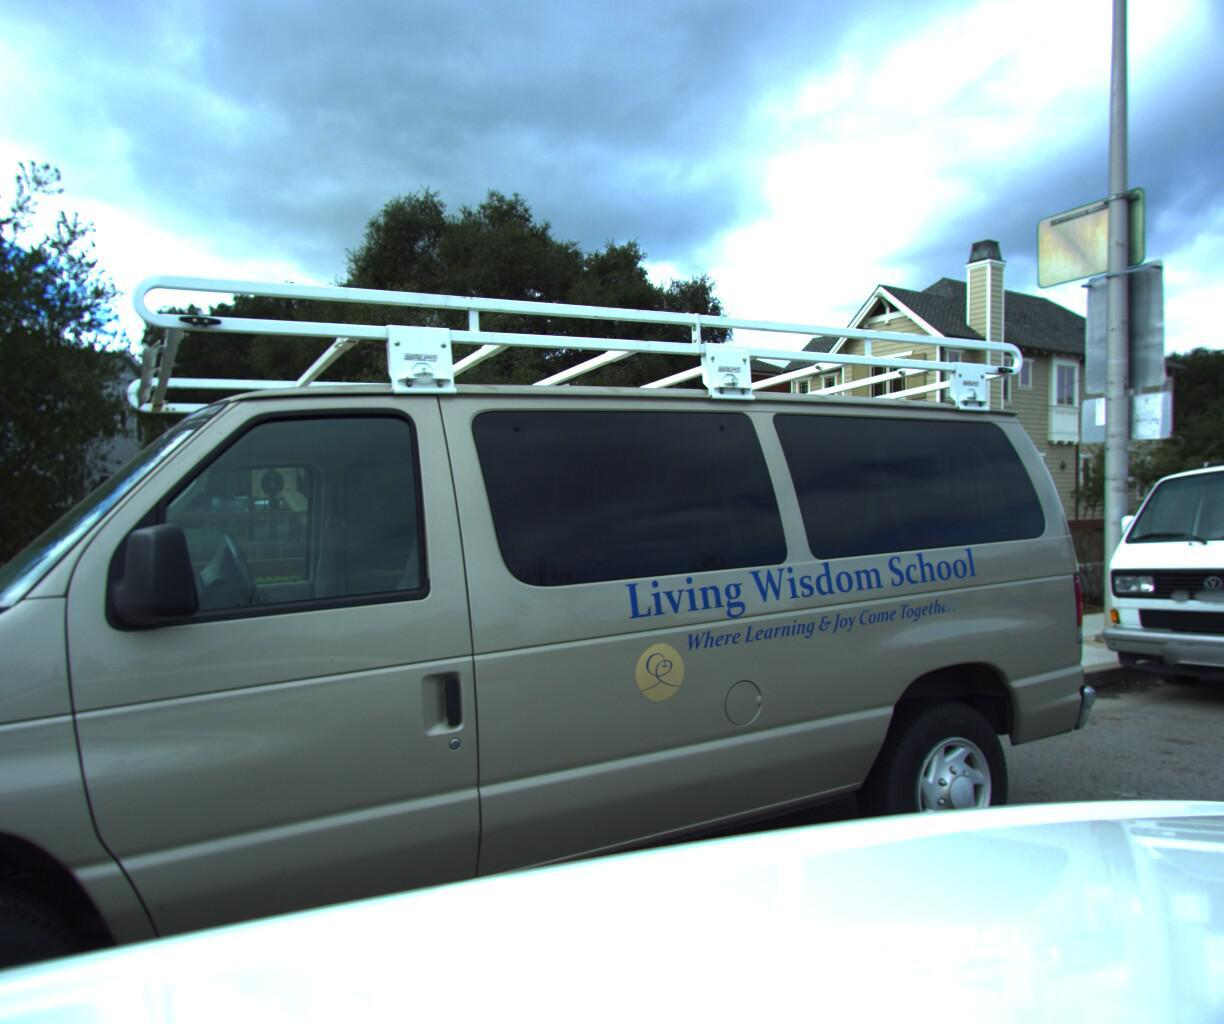car: (0, 113, 1118, 1024), (1092, 431, 1224, 740)
